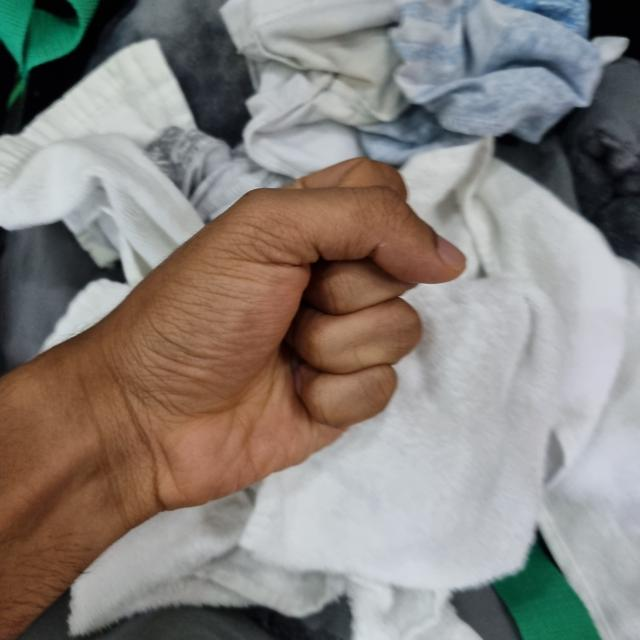Rock: (64, 165, 458, 510)
